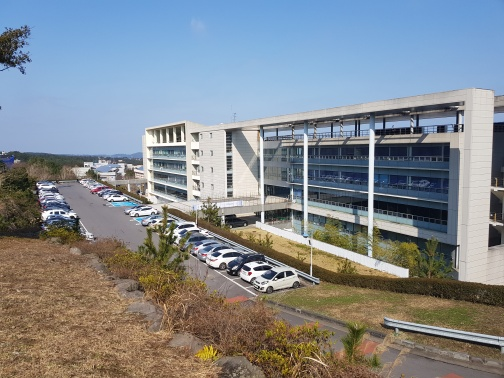Engineering College Building 4: (141, 110, 499, 215), (297, 103, 489, 269), (167, 123, 287, 203)
